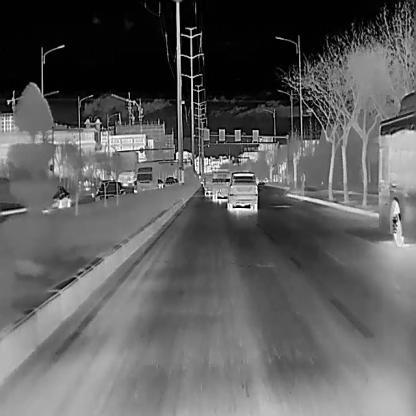car: (377, 89, 415, 247), (225, 171, 258, 210), (93, 180, 124, 201), (134, 164, 158, 191), (211, 171, 230, 201), (51, 185, 70, 208), (164, 176, 175, 186), (157, 177, 164, 188)
